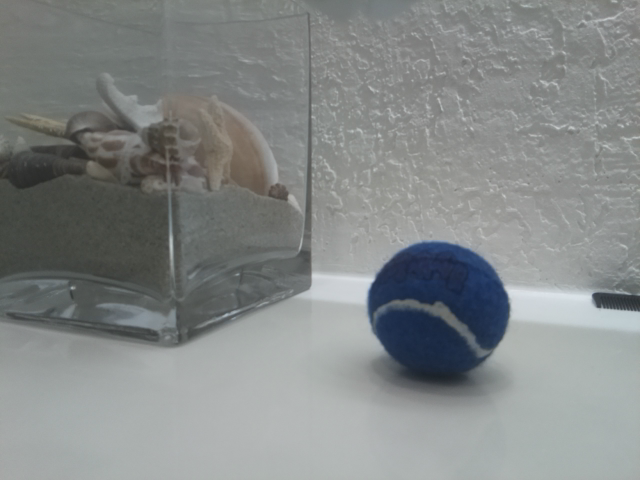blue-ball: (366, 240, 512, 378)
